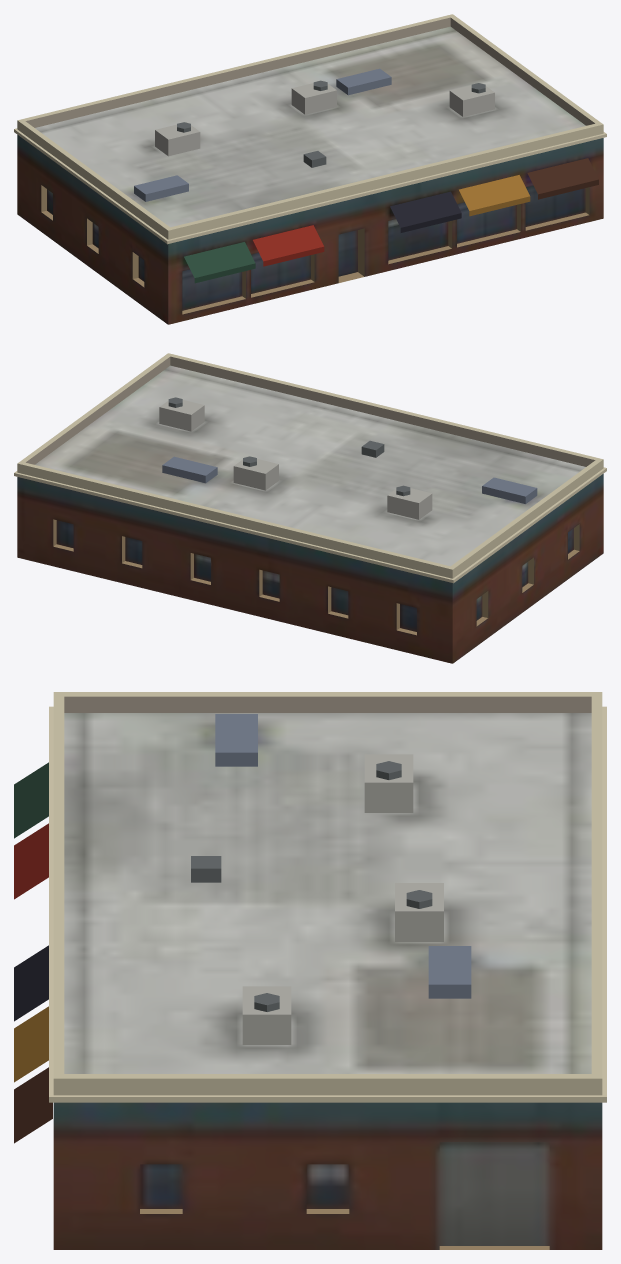
File: seattle_low_a.glb
3 renders of one model, top to bottom at view 1: azimuth 30°, elevation 25°; view 2: azimuth 150°, elevation 25°; view 3: azimuth 270°, elevation 25°, orthographic. The views are drawn at different scales.
Parts seen in each view (by area): view 1: seattle_low_a; view 2: seattle_low_a; view 3: seattle_low_a.
Boxes of the visible parts, x1,y1,x2,y2 form: seattle_low_a: [14, 14, 606, 324]; seattle_low_a: [14, 353, 606, 663]; seattle_low_a: [14, 692, 606, 1249].
Bounding box in the file's own units: 30.3 × 6.95 × 19.45.
Materials: 1 (1 with a texture image).
